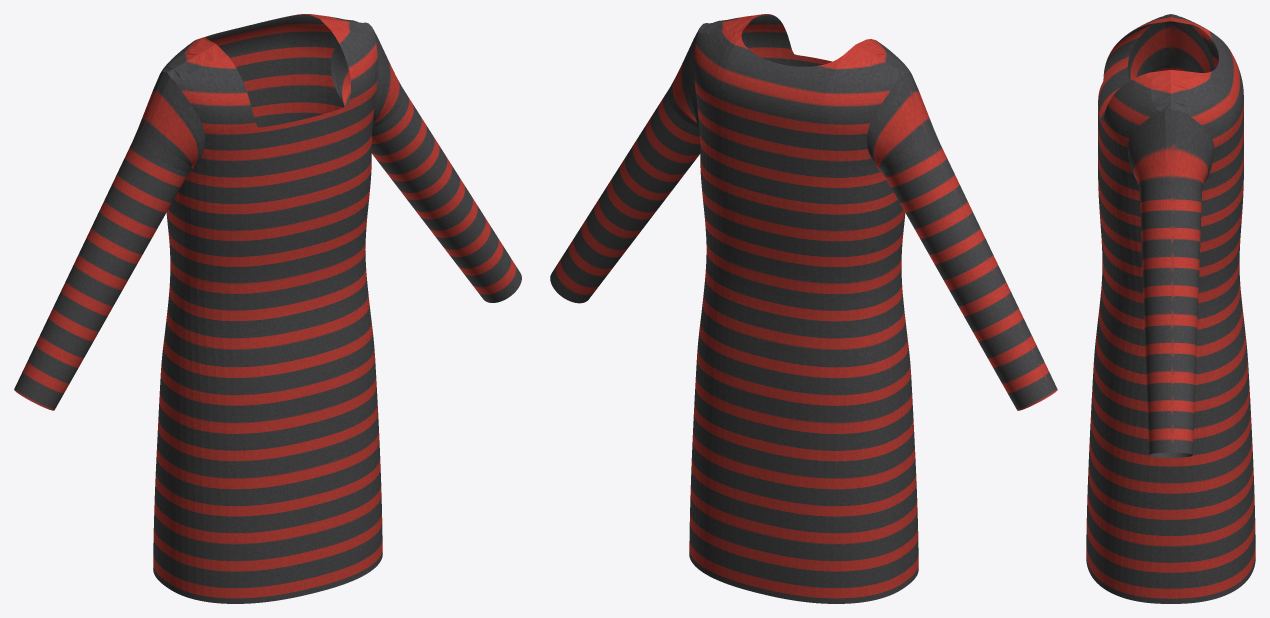
3 renders of one model, left to right at view 1: azimuth 30°, elevation 25°; view 2: azimuth 150°, elevation 25°; view 3: azimuth 270°, elevation 25°, orthographic. The views are drawn at different scales.
Visible parts, largest first — view 1: geometry_0; view 2: geometry_0; view 3: geometry_0.
Part boxes in pixels (x1,y1,x2,y2): geometry_0: (14,14,521,603); geometry_0: (550,14,1057,603); geometry_0: (1086,14,1255,603).
Size of the model in its own units: 0.9693 by 0.9797 by 0.295.
Materials: 1 (1 with a texture image).
